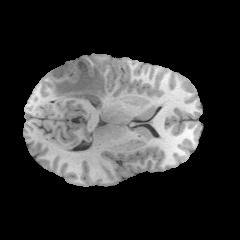glioma: (48, 60, 107, 103)
